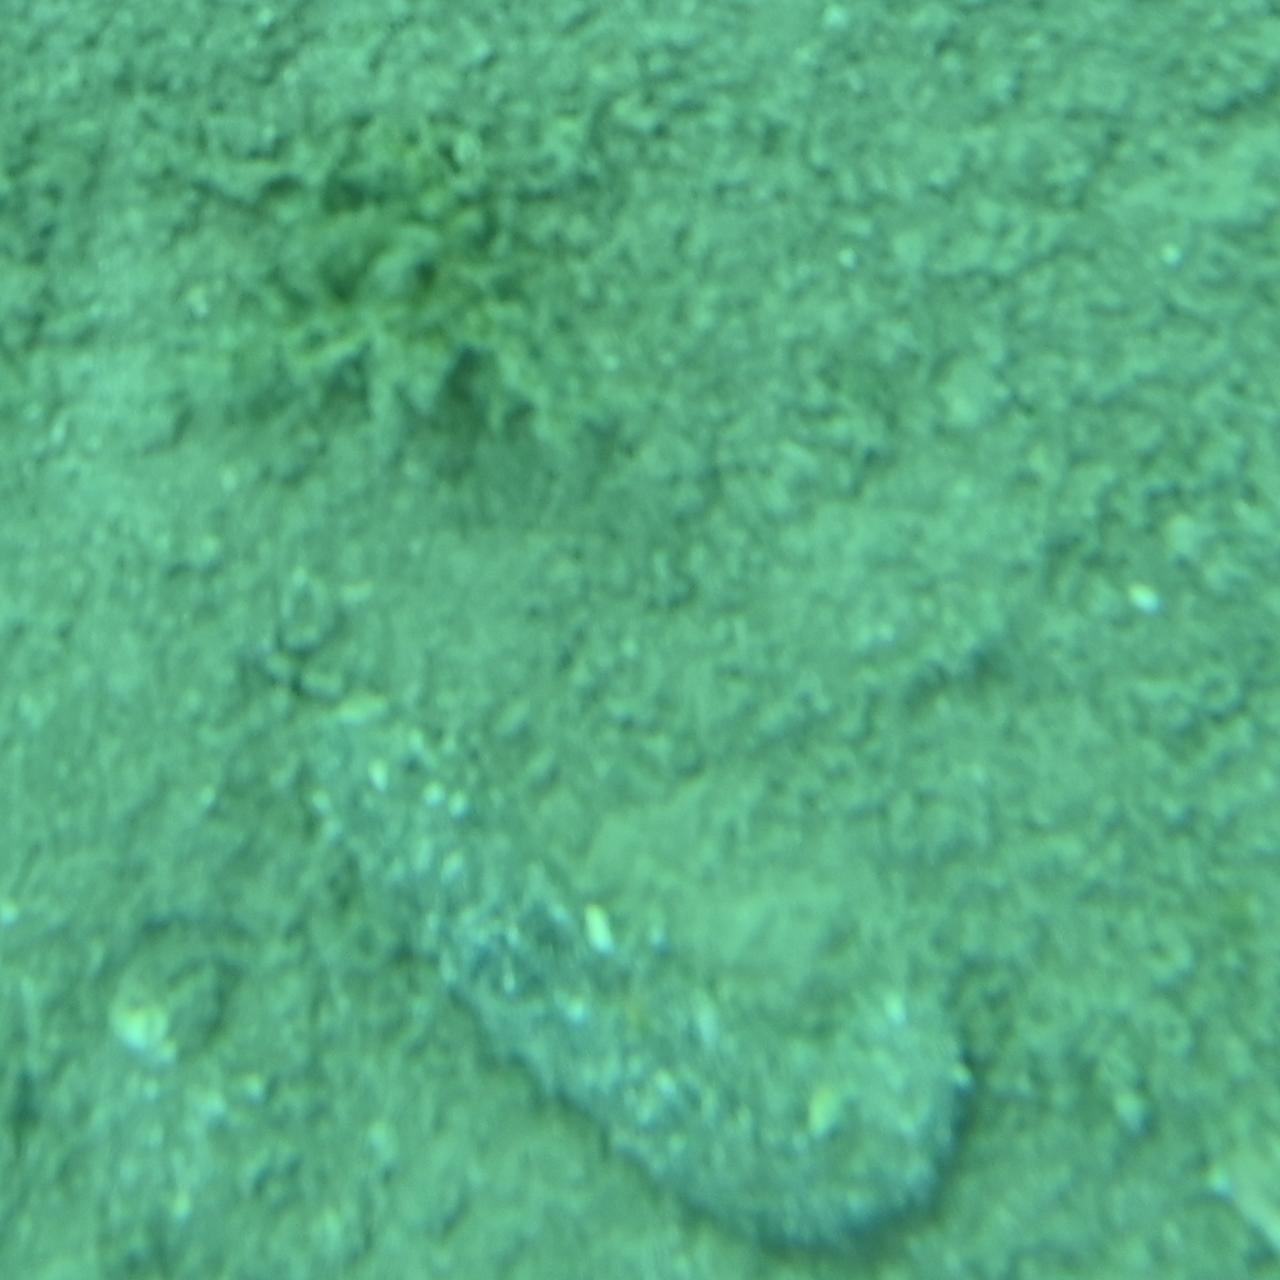Holothuria tubulosa: (293, 685, 987, 1266)
